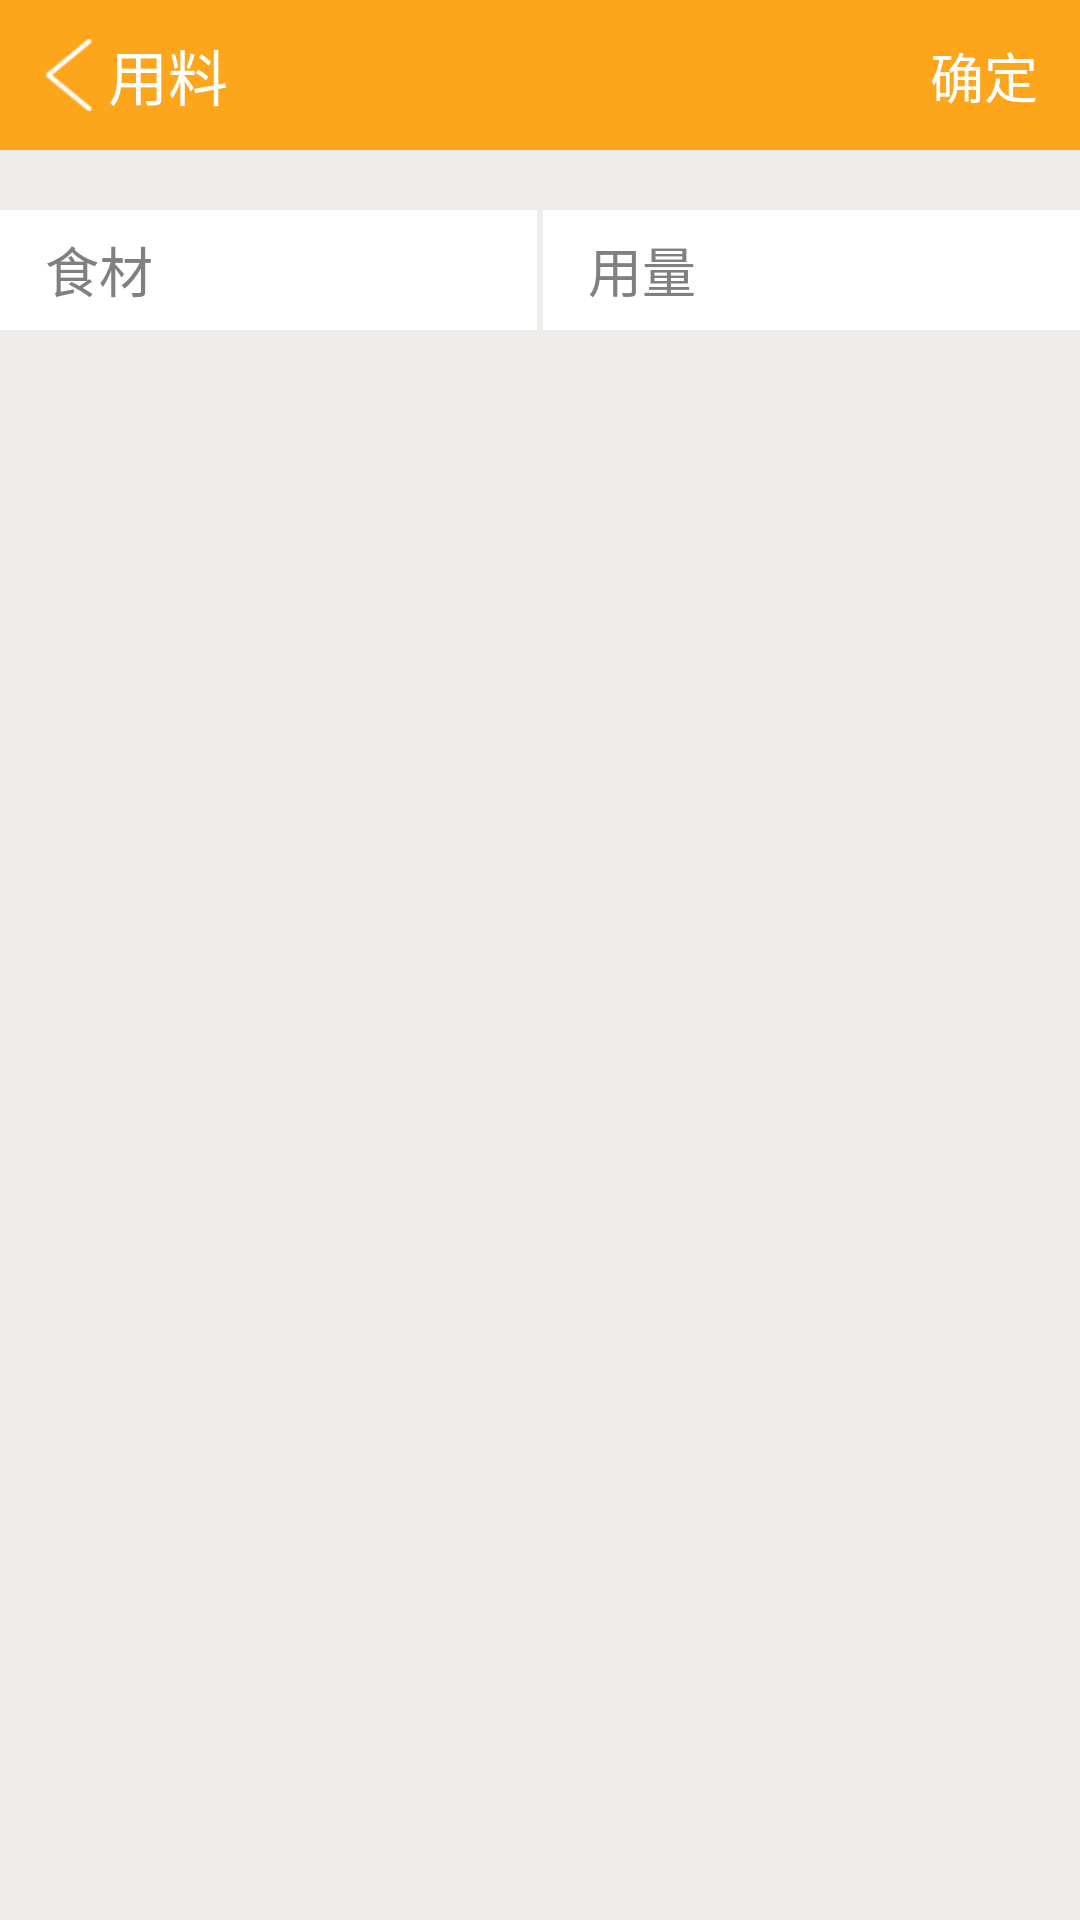

Icon click points for this 1080px×1920px phone screenshot, format (x,y):
imageview arrow back: (69,75)
